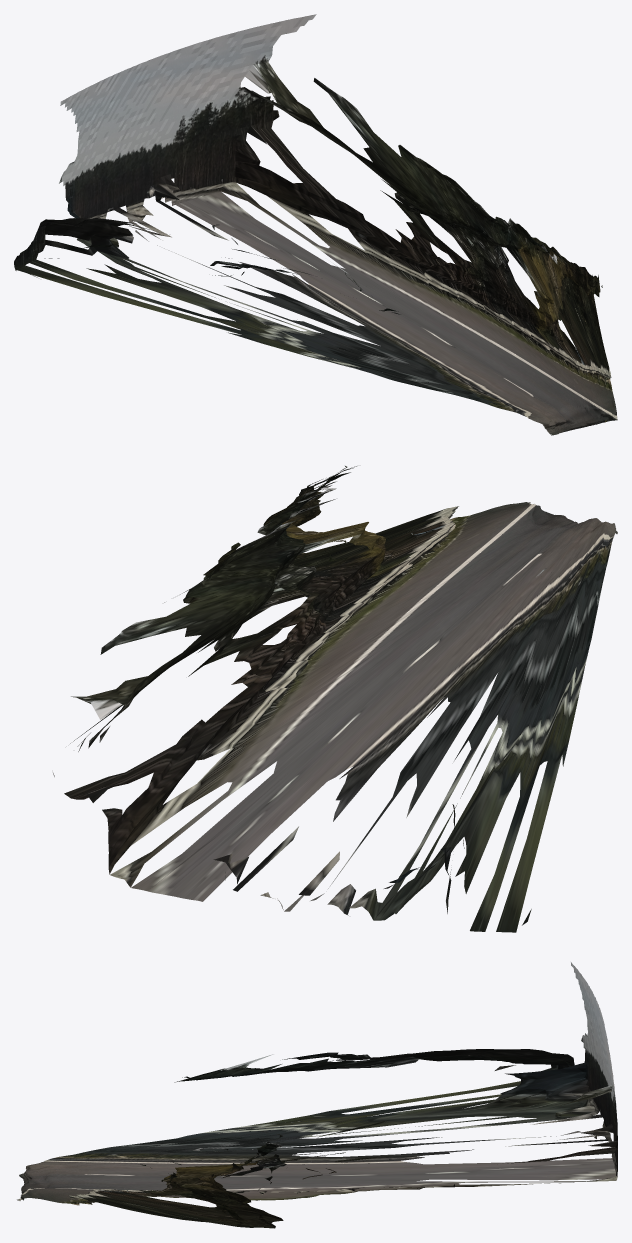
3 renders of one model, top to bottom at view 1: azimuth 30°, elevation 25°; view 2: azimuth 150°, elevation 25°; view 3: azimuth 270°, elevation 25°, orthographic. The views are drawn at different scales.
Parts seen in each view (by area): view 1: defaultobject; view 2: defaultobject; view 3: defaultobject.
Boxes of the visible parts, <box> form: defaultobject: <box>14,14,617,435</box>; defaultobject: <box>53,466,617,932</box>; defaultobject: <box>17,962,617,1228</box>.
Bounding box in the file's own units: 30.13 × 11.99 × 44.73.
Materials: 1 (1 with a texture image).
